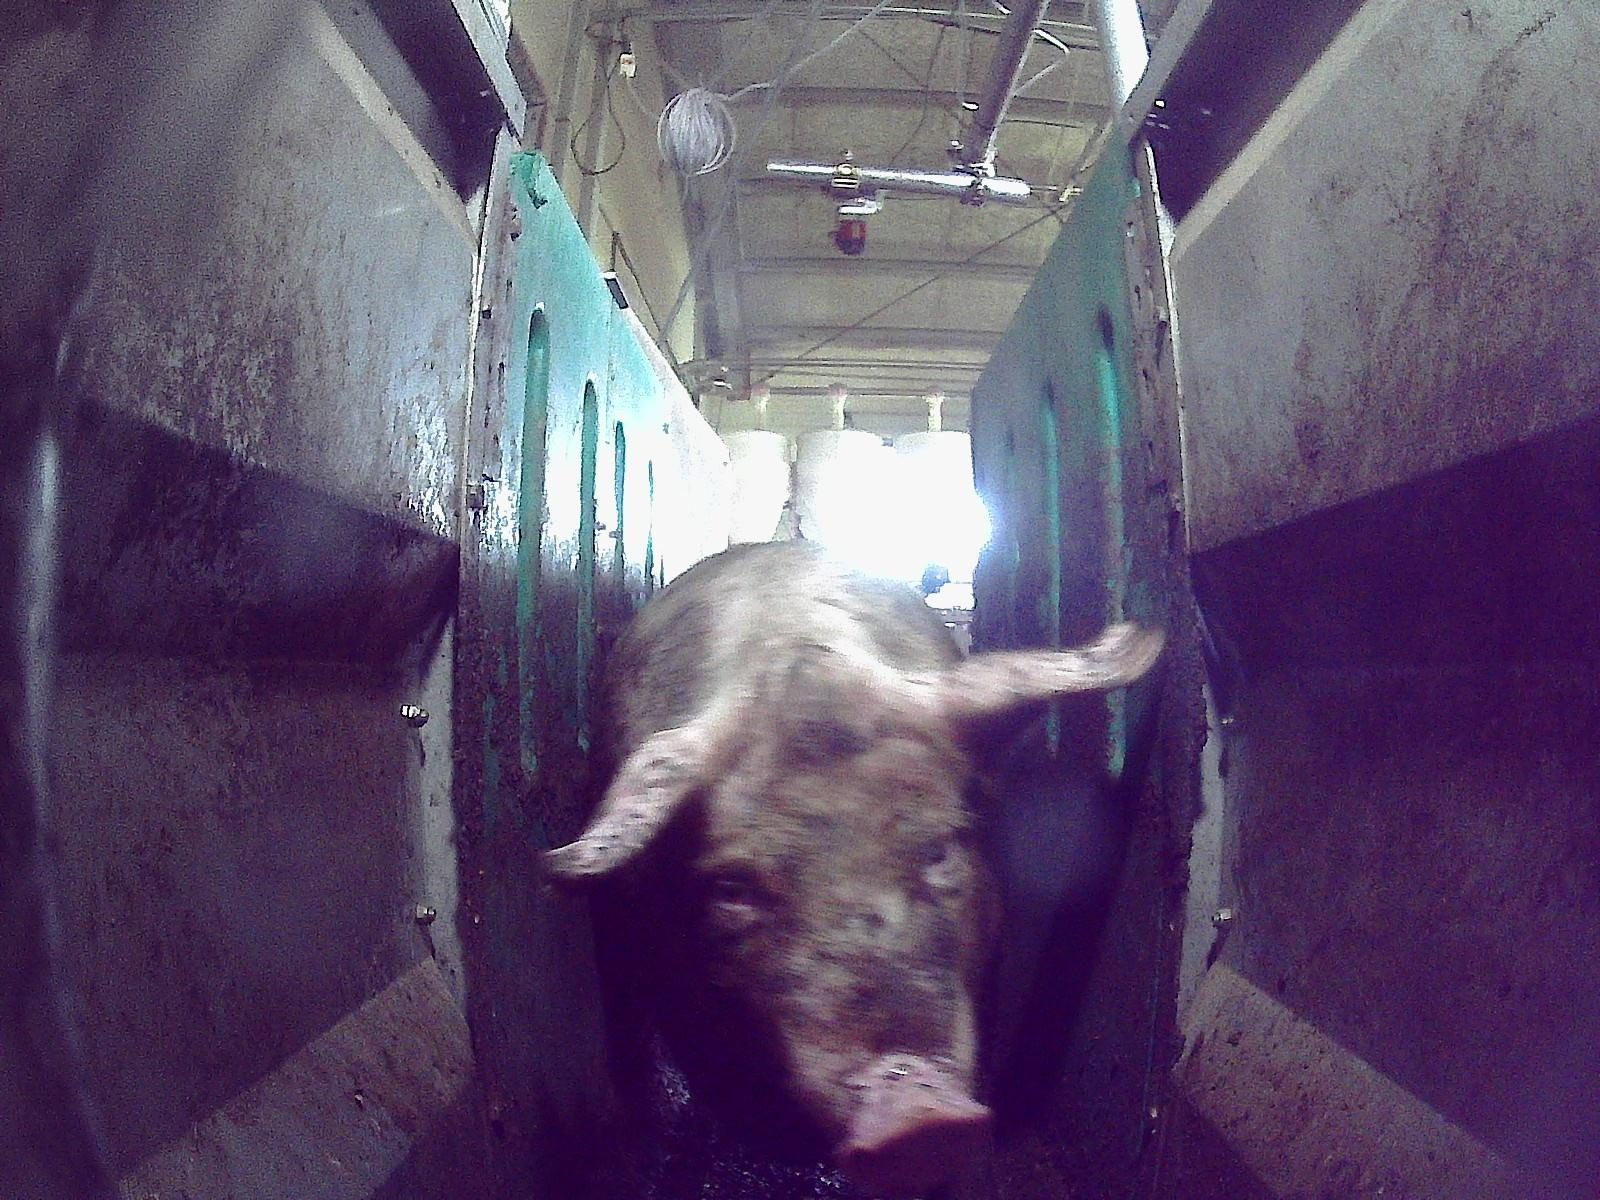Face: (685, 728, 994, 1198)
